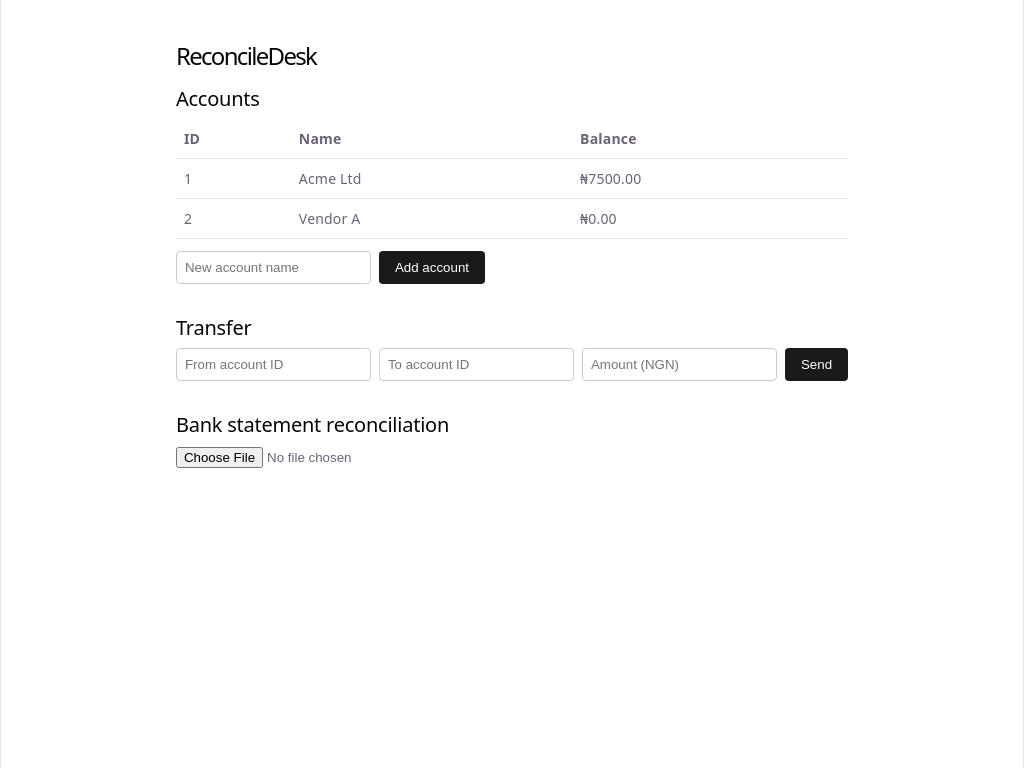
Test: App › shows the server's error message when a transfer is rejected
The image size is (1024, 768).
Check: the text "Acme Ltd" is shown, box [291,158,572,199]
Step 1. Type "1" into the field with placeholder "From account ID" → coordinates (273, 364), box [176,348,371,381]
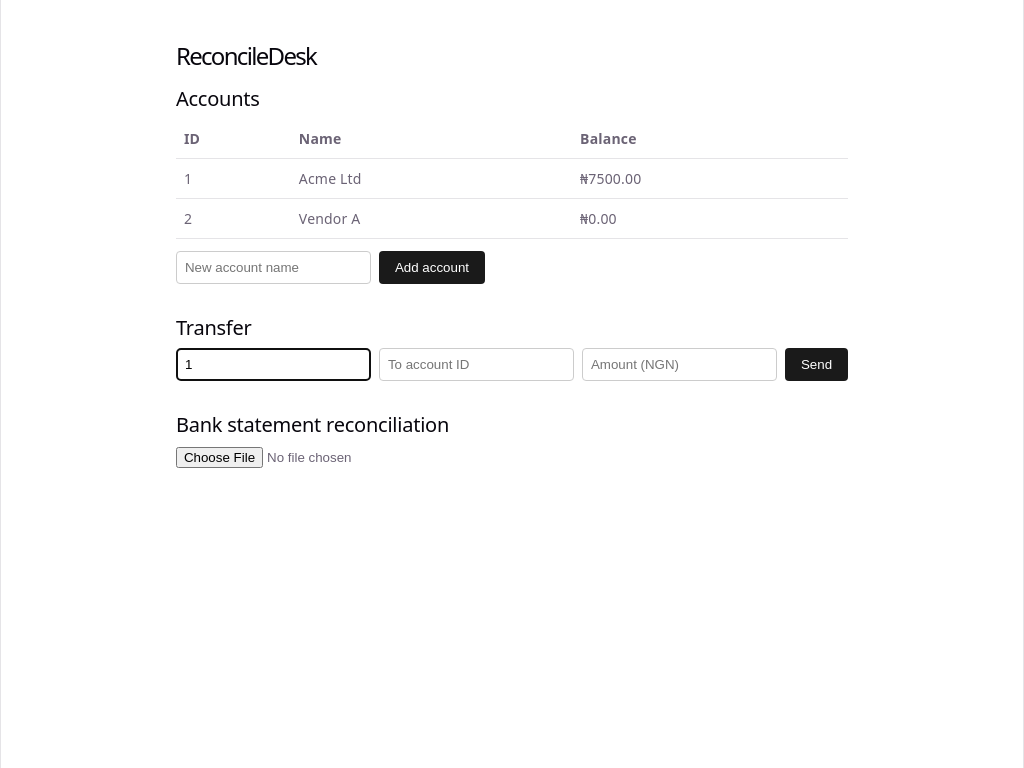
Step 2. Type "2" into the field with placeholder "To account ID" → coordinates (476, 364), box [379,348,574,381]
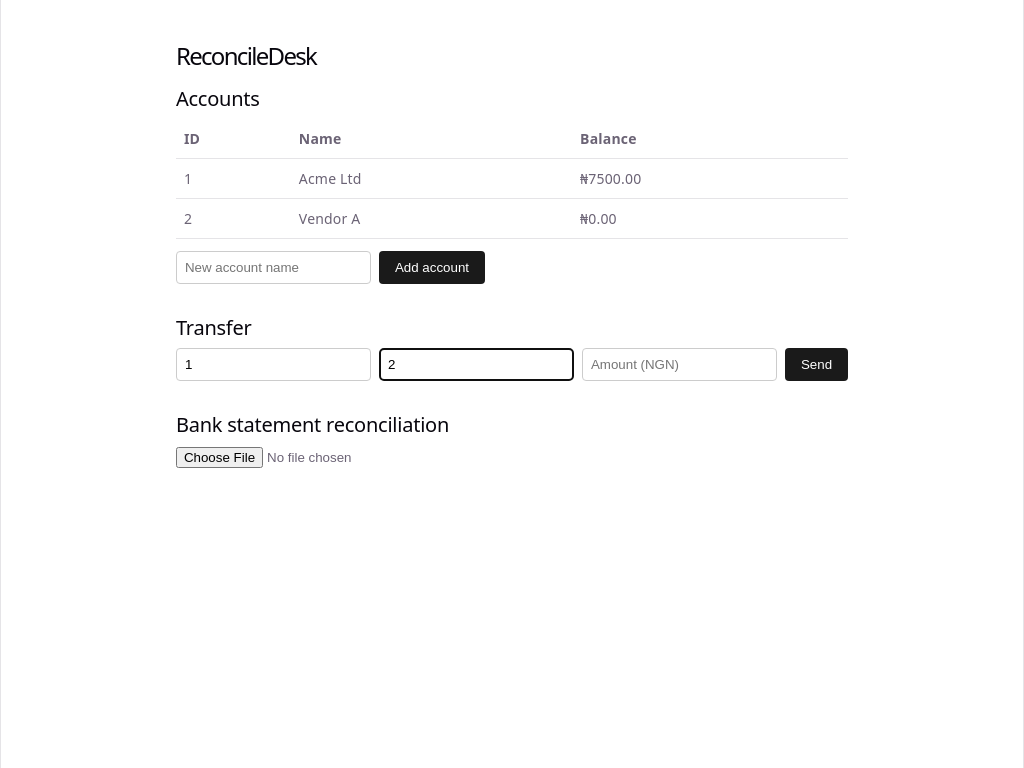
Step 3. Type "999999" into the field with placeholder "Amount (NGN)" → coordinates (679, 364), box [582,348,777,381]
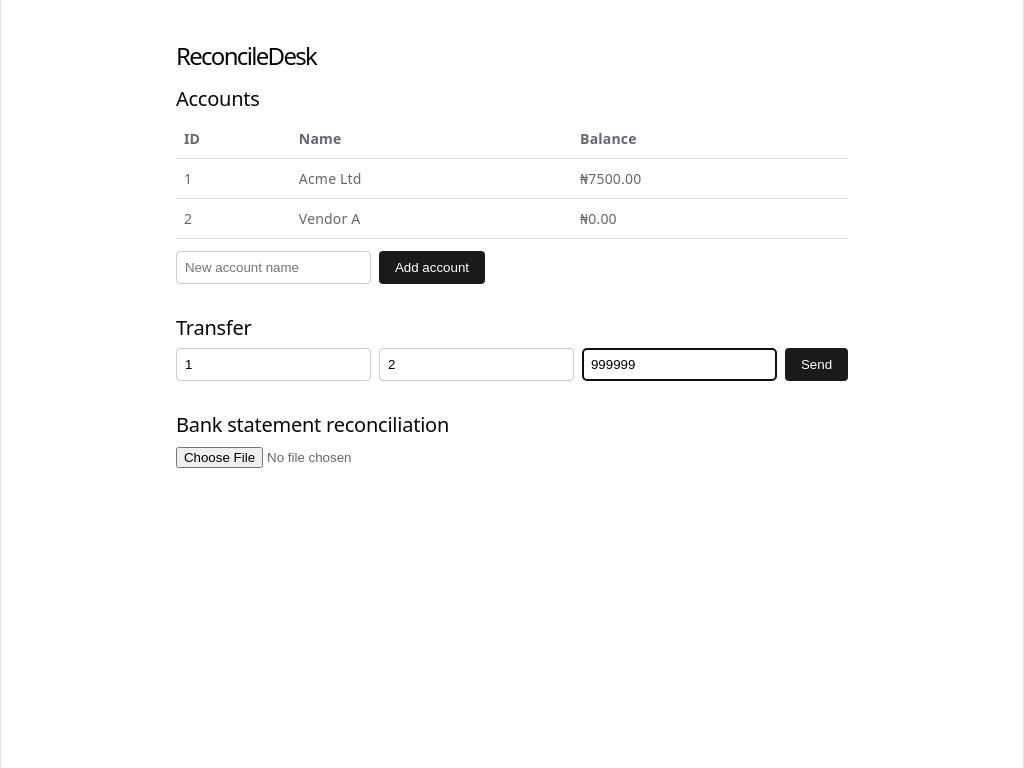
Step 4. Click the button "Send" → coordinates (816, 364), box [785,348,848,381]
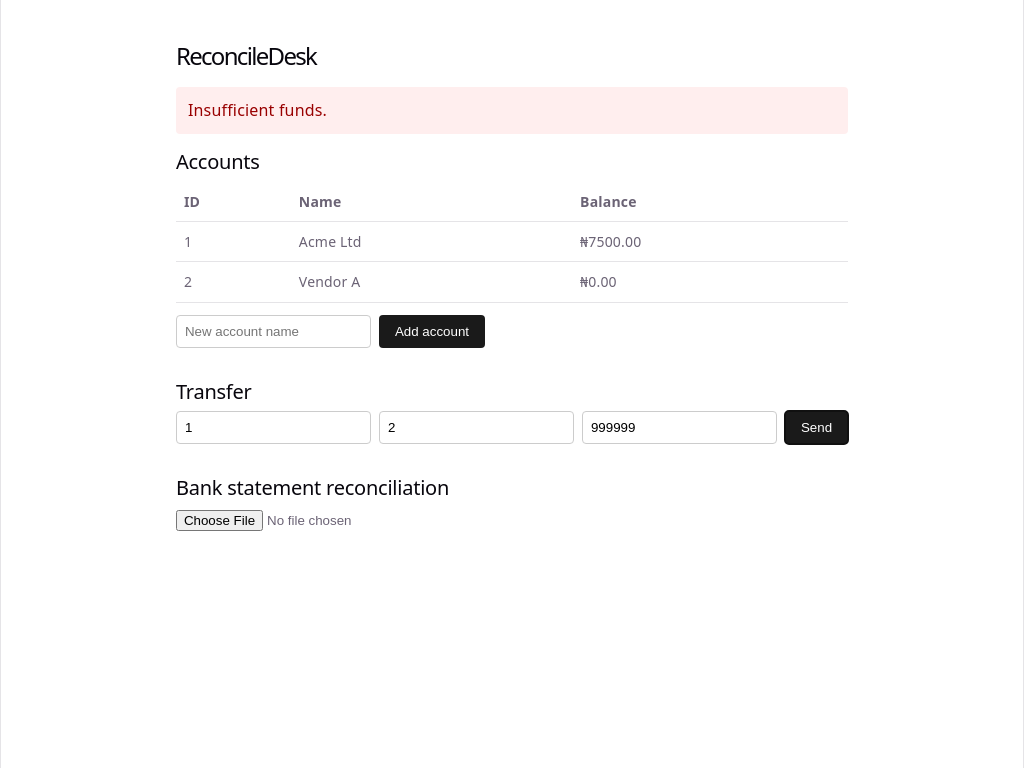
Check: the text "Insufficient funds." is shown, box [176,87,848,134]
